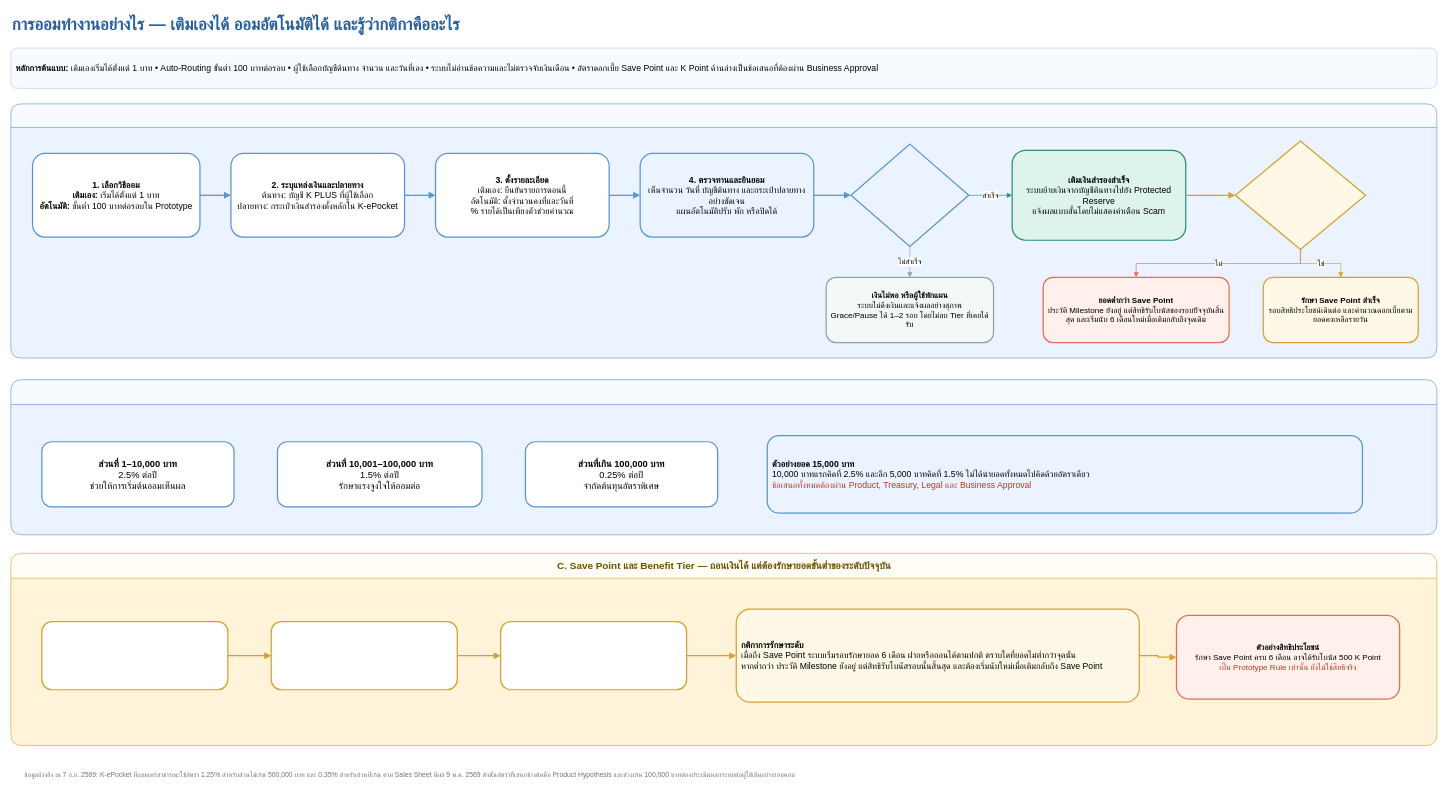
Image size: 1448x805. Some labels were removed from this diagram. The shapes that lost their labels are listed below. From the top down, each one's box as (x1, y1, x2, y2) in pixels, then its label:
(850, 143, 969, 247): ถึงเวลาทำรายการ และบัญชีต้นทาง มีเงินเพียงพอ?
(1234, 140, 1366, 250): วันสรุปรอบ: ยอดคงเหลือไม่ต่ำกว่า Save Point ปัจจุบัน?
(10, 103, 1437, 358): A. เงินมาจากไหน และเข้าเงินสำรองอย่างไร
(10, 379, 1437, 535): B. ข้อเสนอดอกเบี้ยแบบขั้นบันได — คิดแยกตามส่วนของยอดเงิน (Prototype Rate)
(41, 621, 228, 690): Bronze — เริ่มต้น ถึง 1/3 ของเป้าหมาย ตัวอย่าง: 10,000 จาก 30,000 บาท
(270, 621, 458, 690): Silver — ต่อเนื่อง ถึง 2/3 ของเป้าหมาย ตัวอย่าง: 20,000 จาก 30,000 บาท
(500, 621, 687, 690): Gold — มั่นคง ถึง 100% ของเป้าหมาย ตัวอย่าง: 30,000 บาท
